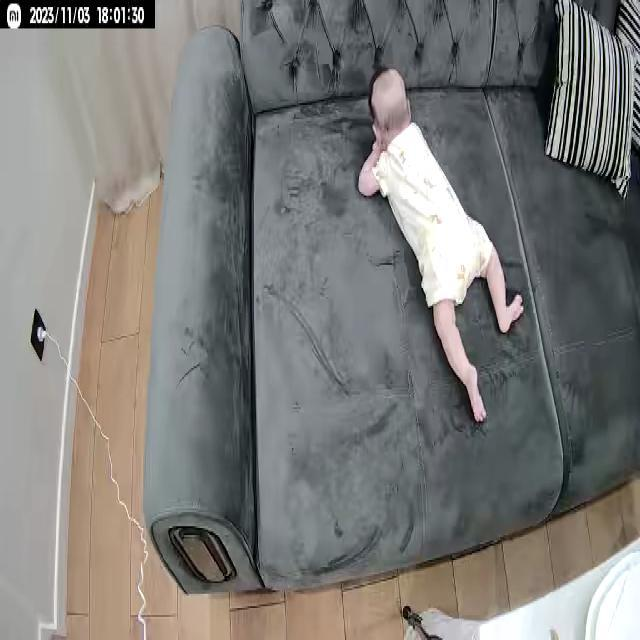baby: (356, 62, 526, 428)
